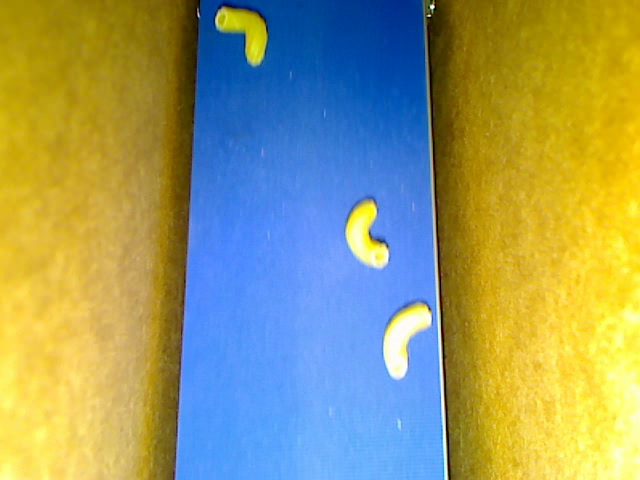elbow: (384, 302, 433, 380), (345, 200, 390, 269), (214, 7, 267, 65)
